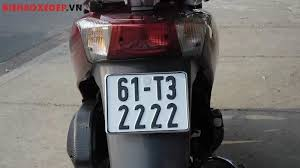Bien-so: (106, 73, 191, 133)
